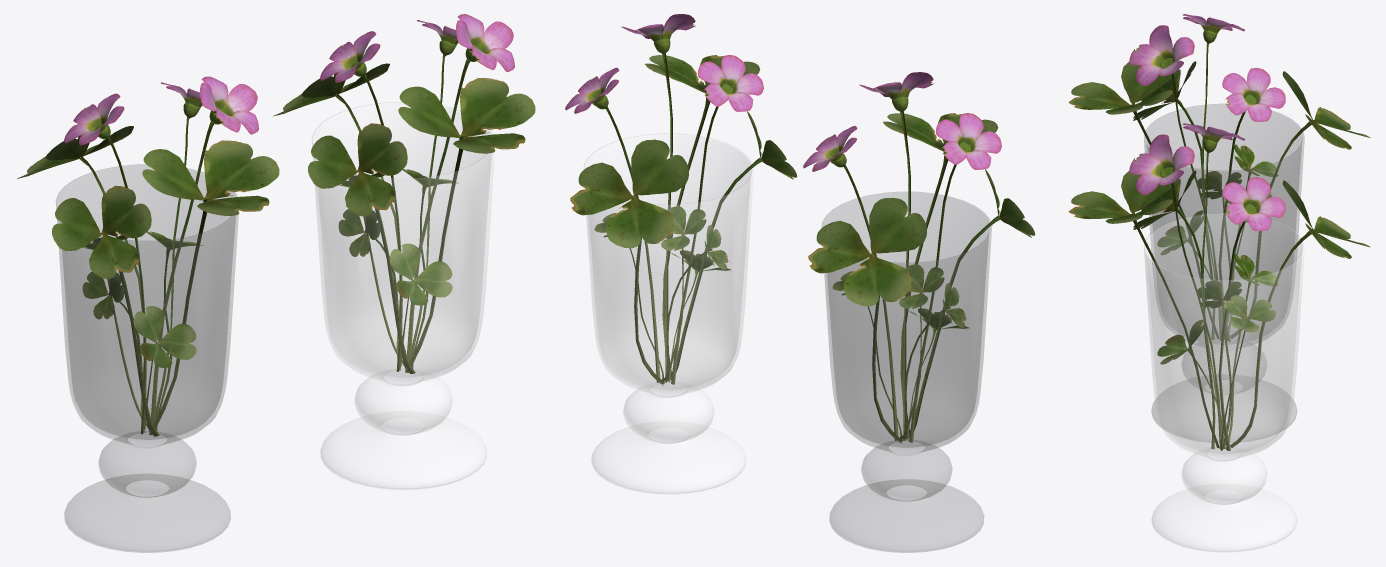
File: glass-vase.glb
3 renders of one model, left to right at view 1: azimuth 30°, elevation 25°; view 2: azimuth 150°, elevation 25°; view 3: azimuth 270°, elevation 25°, orthographic. The views are drawn at different scales.
Parts seen in each view (by area): view 1: Flowers1, GlassAlpha, GlassTransmission; view 2: Flowers1, GlassAlpha, GlassTransmission; view 3: GlassTransmission, Flowers1, GlassAlpha.
Boxes of the visible parts, x1,y1,x2,y2 form: Flowers1: [17, 14, 535, 436]; GlassAlpha: [56, 164, 238, 552]; GlassTransmission: [312, 102, 494, 490]; Flowers1: [565, 14, 1035, 443]; GlassAlpha: [822, 192, 991, 552]; GlassTransmission: [584, 133, 753, 494]; GlassTransmission: [1144, 213, 1304, 552]; Flowers1: [1069, 14, 1370, 450]; GlassAlpha: [1144, 104, 1304, 442].
Bounding box in the file's own units: 0.2173 × 0.2032 × 0.1425.
3 materials, 1 textured.
